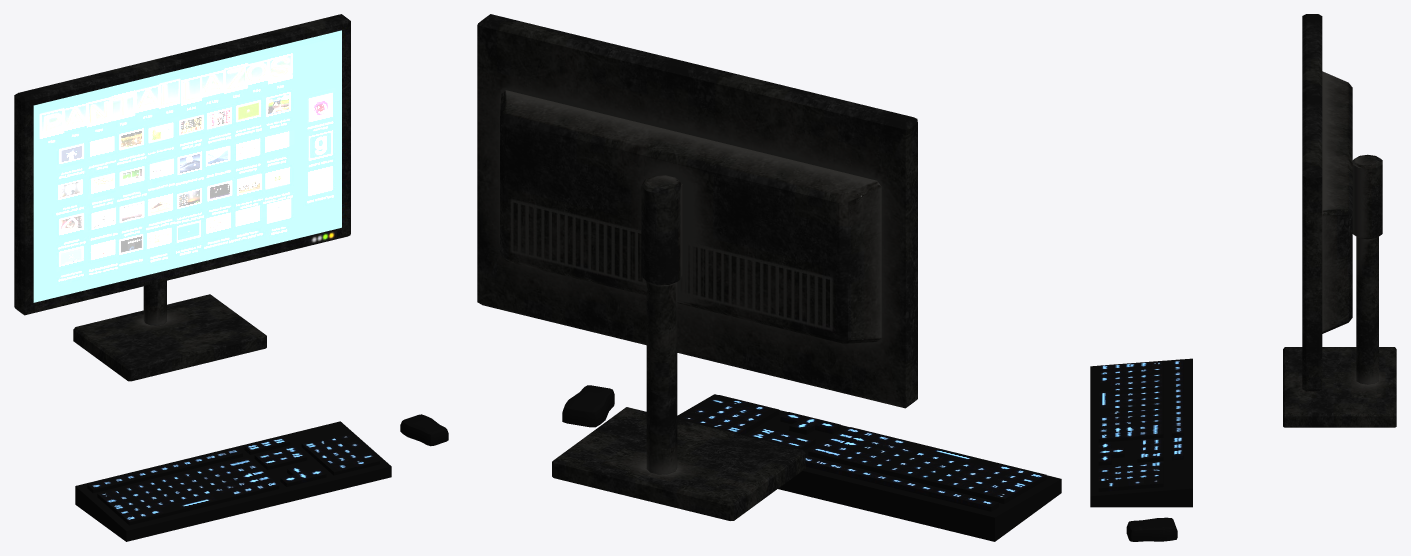
The model's file is pantaflyer.glb.
3 renders of one model, left to right at view 1: azimuth 30°, elevation 25°; view 2: azimuth 150°, elevation 25°; view 3: azimuth 270°, elevation 25°, orthographic. The views are drawn at different scales.
Visible parts, largest first — view 1: controldeciber, Key_Board_Low, Computer_Low, Base_Low, Mouse_Low, Vert_Low; view 2: Computer_Low, Key_Board_Low, Base_Low, Vert_Low, Mouse_Low; view 3: Computer_Low, Key_Board_Low, Base_Low, Vert_Low, Mouse_Low.
Boxes of the visible parts, x1,y1,x2,y2 form: controldeciber: (33, 30, 341, 302); Key_Board_Low: (75, 421, 391, 541); Computer_Low: (14, 14, 350, 315); Base_Low: (73, 294, 266, 381); Mouse_Low: (400, 414, 448, 446); Vert_Low: (143, 280, 166, 325); Computer_Low: (477, 14, 917, 408); Key_Board_Low: (677, 394, 1061, 541); Base_Low: (552, 407, 805, 520); Vert_Low: (641, 175, 682, 474); Mouse_Low: (562, 385, 614, 427); Computer_Low: (1302, 14, 1352, 391); Key_Board_Low: (1090, 358, 1192, 507); Base_Low: (1283, 347, 1396, 427); Vert_Low: (1352, 154, 1382, 384); Mouse_Low: (1126, 517, 1177, 541).
Size of the model in its own units: 1.57 by 1.59 by 1.21.
2 materials, 1 textured.
